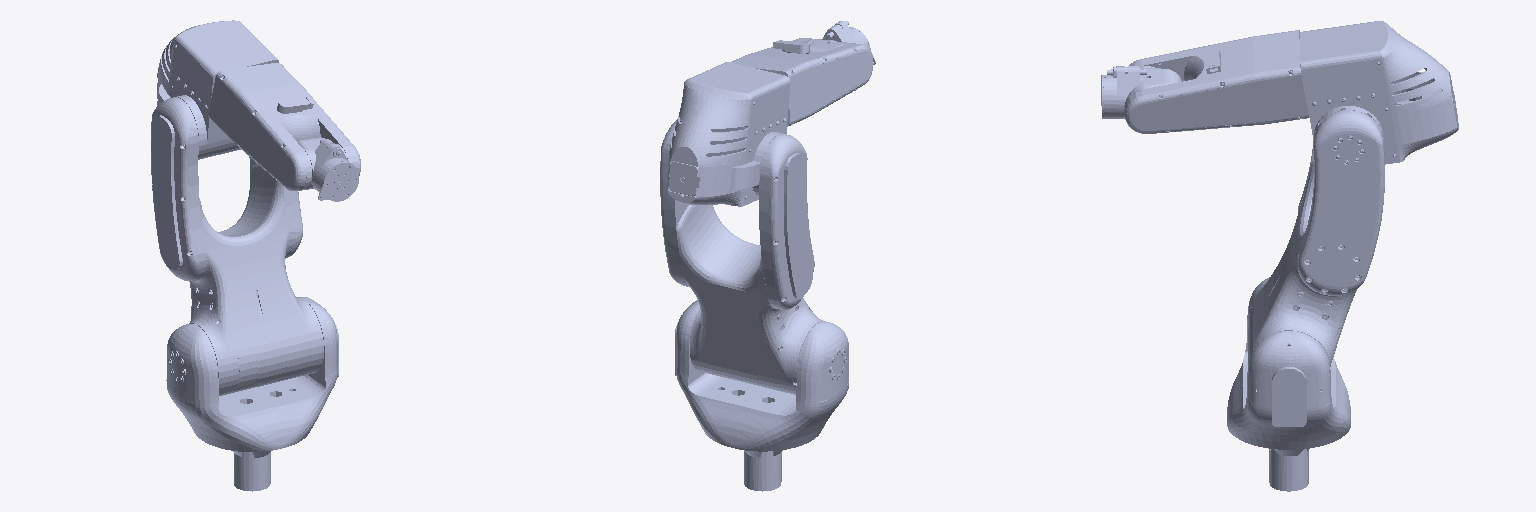
The robot description file, URDF, robot "Final_light_assembly_URDF":
<robot
  name="Final_light_assembly_URDF">
  <link
    name="base_link">
    <inertial>
      <origin
        xyz="0.0754452420016786 0.0706653851885525 0.174716050606158"
        rpy="0 0 0" />
      <mass
        value="1.75590983031249" />
      <inertia
        ixx="0.0106901651591523"
        ixy="1.2533292416581E-05"
        ixz="-1.78802486116636E-05"
        iyy="0.0121389538778755"
        iyz="-0.0001726147454493"
        izz="0.00523087609446992" />
    </inertial>
    <visual>
      <origin
        xyz="0 0 0"
        rpy="0 0 0" />
      <geometry>
        <mesh
          filename="package://Final_light_assembly_URDF/meshes/base_link.STL" />
      </geometry>
      <material
        name="">
        <color
          rgba="0.792156862745098 0.819607843137255 0.933333333333333 1" />
      </material>
    </visual>
    <collision>
      <origin
        xyz="0 0 0"
        rpy="0 0 0" />
      <geometry>
        <mesh
          filename="package://Final_light_assembly_URDF/meshes/base_link.STL" />
      </geometry>
    </collision>
  </link>
  <link
    name="rotary_base">
    <inertial>
      <origin
        xyz="3.6594E-07 -0.12491 -0.0091222"
        rpy="0 0 0" />
      <mass
        value="1.8968" />
      <inertia
        ixx="0.011703"
        ixy="6.2683E-07"
        ixz="2.7765E-07"
        iyy="0.010005"
        iyz="-0.00096832"
        izz="0.0065158" />
    </inertial>
    <visual>
      <origin
        xyz="0 0 0"
        rpy="0 0 0" />
      <geometry>
        <mesh
          filename="package://Final_light_assembly_URDF/meshes/rotary_base.STL" />
      </geometry>
      <material
        name="">
        <color
          rgba="0.79216 0.81961 0.93333 1" />
      </material>
    </visual>
    <collision>
      <origin
        xyz="0 0 0"
        rpy="0 0 0" />
      <geometry>
        <mesh
          filename="package://Final_light_assembly_URDF/meshes/rotary_base.STL" />
      </geometry>
    </collision>
  </link>
  <joint
    name="rotary_base"
    type="continuous">
    <origin
      xyz="0.075629 -0.21266 0.050734"
      rpy="-1.5708 -6.123E-17 -1.5708" />
    <parent
      link="base_link" />
    <child
      link="rotary_base" />
    <axis
      xyz="0 -1 0" />
  </joint>
  <link
    name="nadlaktica">
    <inertial>
      <origin
        xyz="0.11187 -0.011704 0.007695"
        rpy="0 0 0" />
      <mass
        value="3.097" />
      <inertia
        ixx="0.011686"
        ixy="0.0012432"
        ixz="-0.0018781"
        iyy="0.03891"
        iyz="-5.4012E-05"
        izz="0.032612" />
    </inertial>
    <visual>
      <origin
        xyz="0 0 0"
        rpy="0 0 0" />
      <geometry>
        <mesh
          filename="package://Final_light_assembly_URDF/meshes/nadlaktica.STL" />
      </geometry>
      <material
        name="">
        <color
          rgba="0.79216 0.81961 0.93333 1" />
      </material>
    </visual>
    <collision>
      <origin
        xyz="0 0 0"
        rpy="0 0 0" />
      <geometry>
        <mesh
          filename="package://Final_light_assembly_URDF/meshes/nadlaktica.STL" />
      </geometry>
    </collision>
  </link>
  <joint
    name="nadlaktica"
    type="continuous">
    <origin
      xyz="0 -0.20182 0"
      rpy="2.7756E-15 -1.3878E-15 -1.8111" />
    <parent
      link="rotary_base" />
    <child
      link="nadlaktica" />
    <axis
      xyz="0 0 1" />
  </joint>
  <link
    name="lakat">
    <inertial>
      <origin
        xyz="0.020310022580536 -0.0354589471585284 0.00171229454365077"
        rpy="0 0 0" />
      <mass
        value="1.2726491805247" />
      <inertia
        ixx="0.00430935066273582"
        ixy="-0.000472663673983171"
        ixz="2.10793692092687E-05"
        iyy="0.00388873322685888"
        iyz="-0.000102922808916268"
        izz="0.00512549454697952" />
    </inertial>
    <visual>
      <origin
        xyz="0 0 0"
        rpy="0 0 0" />
      <geometry>
        <mesh
          filename="package://Final_light_assembly_URDF/meshes/lakat.STL" />
      </geometry>
      <material
        name="">
        <color
          rgba="0.792156862745098 0.819607843137255 0.933333333333333 1" />
      </material>
    </visual>
    <collision>
      <origin
        xyz="0 0 0"
        rpy="0 0 0" />
      <geometry>
        <mesh
          filename="package://Final_light_assembly_URDF/meshes/lakat.STL" />
      </geometry>
    </collision>
  </link>
  <joint
    name="lakat"
    type="continuous">
    <origin
      xyz="0.32 0 0"
      rpy="3.1416 -6.3895E-16 -1.1753" />
    <parent
      link="nadlaktica" />
    <child
      link="lakat" />
    <axis
      xyz="0 0 -1" />
  </joint>
  <link
    name="podlaktica">
    <inertial>
      <origin
        xyz="0.015666 0.10444 0.04524"
        rpy="0 0 0" />
      <mass
        value="0.8658" />
      <inertia
        ixx="0.0043737"
        ixy="-0.00033248"
        ixz="-0.00029637"
        iyy="0.0017275"
        iyz="-0.0011009"
        izz="0.0039233" />
    </inertial>
    <visual>
      <origin
        xyz="0 0 0"
        rpy="0 0 0" />
      <geometry>
        <mesh
          filename="package://Final_light_assembly_URDF/meshes/podlaktica.STL" />
      </geometry>
      <material
        name="">
        <color
          rgba="0.79216 0.81961 0.93333 1" />
      </material>
    </visual>
    <collision>
      <origin
        xyz="0 0 0"
        rpy="0 0 0" />
      <geometry>
        <mesh
          filename="package://Final_light_assembly_URDF/meshes/podlaktica.STL" />
      </geometry>
    </collision>
  </link>
  <joint
    name="podlaktica"
    type="continuous">
    <origin
      xyz="0 -0.0735 0"
      rpy="-0.5648 -0.78173 1.7809" />
    <parent
      link="lakat" />
    <child
      link="podlaktica" />
    <axis
      xyz="0.14804 0.90477 0.39934" />
  </joint>
  <link
    name="saka">
    <inertial>
      <origin
        xyz="0.00102127447654127 0.00173769308862193 -0.00307332521672926"
        rpy="0 0 0" />
      <mass
        value="0.195660541483626" />
      <inertia
        ixx="0.000196163267087824"
        ixy="-1.19915207726741E-07"
        ixz="-4.99910323817217E-07"
        iyy="0.000195263940589931"
        iyz="9.07364788265256E-06"
        izz="0.000136132402412911" />
    </inertial>
    <visual>
      <origin
        xyz="0 0 0"
        rpy="0 0 0" />
      <geometry>
        <mesh
          filename="package://Final_light_assembly_URDF/meshes/saka.STL" />
      </geometry>
      <material
        name="">
        <color
          rgba="0.792156862745098 0.819607843137255 0.933333333333333 1" />
      </material>
    </visual>
    <collision>
      <origin
        xyz="0 0 0"
        rpy="0 0 0" />
      <geometry>
        <mesh
          filename="package://Final_light_assembly_URDF/meshes/saka.STL" />
      </geometry>
    </collision>
  </link>
  <joint
    name="saka"
    type="continuous">
    <origin
      xyz="0.037114 0.22683 0.10011"
      rpy="2.2965 -0.74045 -0.57161" />
    <parent
      link="podlaktica" />
    <child
      link="saka" />
    <axis
      xyz="-1 0 0" />
  </joint>
  <link
    name="hvataljka">
    <inertial>
      <origin
        xyz="0.00017222 0.00017758 0.00947"
        rpy="0 0 0" />
      <mass
        value="0.020284" />
      <inertia
        ixx="3.4622E-06"
        ixy="-9.927E-08"
        ixz="-2.2616E-08"
        iyy="3.4561E-06"
        iyz="-2.332E-08"
        izz="6.3508E-06" />
    </inertial>
    <visual>
      <origin
        xyz="0 0 0"
        rpy="0 0 0" />
      <geometry>
        <mesh
          filename="package://Final_light_assembly_URDF/meshes/hvataljka.STL" />
      </geometry>
      <material
        name="">
        <color
          rgba="0.79216 0.81961 0.93333 1" />
      </material>
    </visual>
    <collision>
      <origin
        xyz="0 0 0"
        rpy="0 0 0" />
      <geometry>
        <mesh
          filename="package://Final_light_assembly_URDF/meshes/hvataljka.STL" />
      </geometry>
    </collision>
  </link>
  <joint
    name="hvataljka"
    type="continuous">
    <origin
      xyz="0 0 -0.042312"
      rpy="-3.1416 2.5362E-15 0.2419" />
    <parent
      link="saka" />
    <child
      link="hvataljka" />
    <axis
      xyz="0 0 1" />
  </joint>
</robot>

--- What the picture shows (computed from the rendered views, not written in the file) ---
Views: 3 orthographic renders of the robot side by side, from view 1: azimuth 30°, elevation 25°; view 2: azimuth 150°, elevation 25°; view 3: azimuth 270°, elevation 25°.
Model Final_light_assembly_URDF with 7 links and 6 joints (6 continuous), rooted at base_link, posed every joint at zero.
Visible links, largest first — view 1: nadlaktica, rotary_base, podlaktica, lakat, saka, hvataljka; view 2: nadlaktica, rotary_base, lakat, podlaktica, saka; view 3: nadlaktica, lakat, podlaktica, rotary_base, saka.
Link boxes in pixels (box(x1,y1,x2,y2)): nadlaktica: box(151, 97, 323, 395); rotary_base: box(166, 297, 338, 491); podlaktica: box(208, 63, 360, 190); lakat: box(157, 20, 278, 159); saka: box(297, 137, 349, 192); hvataljka: box(318, 162, 358, 201); nadlaktica: box(660, 120, 822, 394); rotary_base: box(675, 300, 848, 491); lakat: box(666, 62, 790, 206); podlaktica: box(732, 38, 873, 126); saka: box(808, 21, 869, 51); nadlaktica: box(1248, 110, 1384, 366); lakat: box(1300, 21, 1458, 164); podlaktica: box(1125, 30, 1309, 133); rotary_base: box(1227, 277, 1350, 491); saka: box(1103, 66, 1181, 118).
Bounding box of the posed robot: 0.2408 × 0.4577 × 0.6339 m (x, y, z).
Meshes: 7 distinct files referenced, 6 mesh visuals loaded (6 binary STL); not drawn: 1 (reference not matched to a file when rendering).